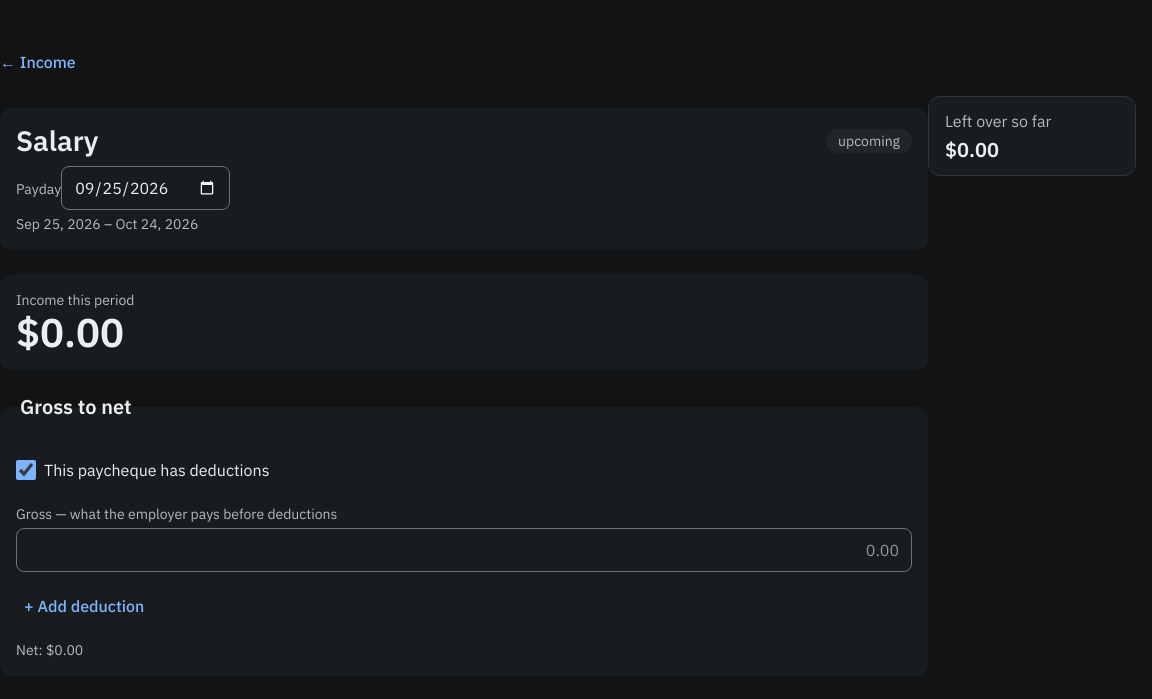
Scenario: PayRecord period from the backend › ignores a slow answer for a payday the user has moved off
The image size is (1152, 699).
Check: the text "Sep 25, 2026 – Oct 24, 2026" is shown, box [16, 215, 198, 233]
In the date field labelled "Payday": (146, 188) [61, 166, 230, 210], type "2026-10-25"
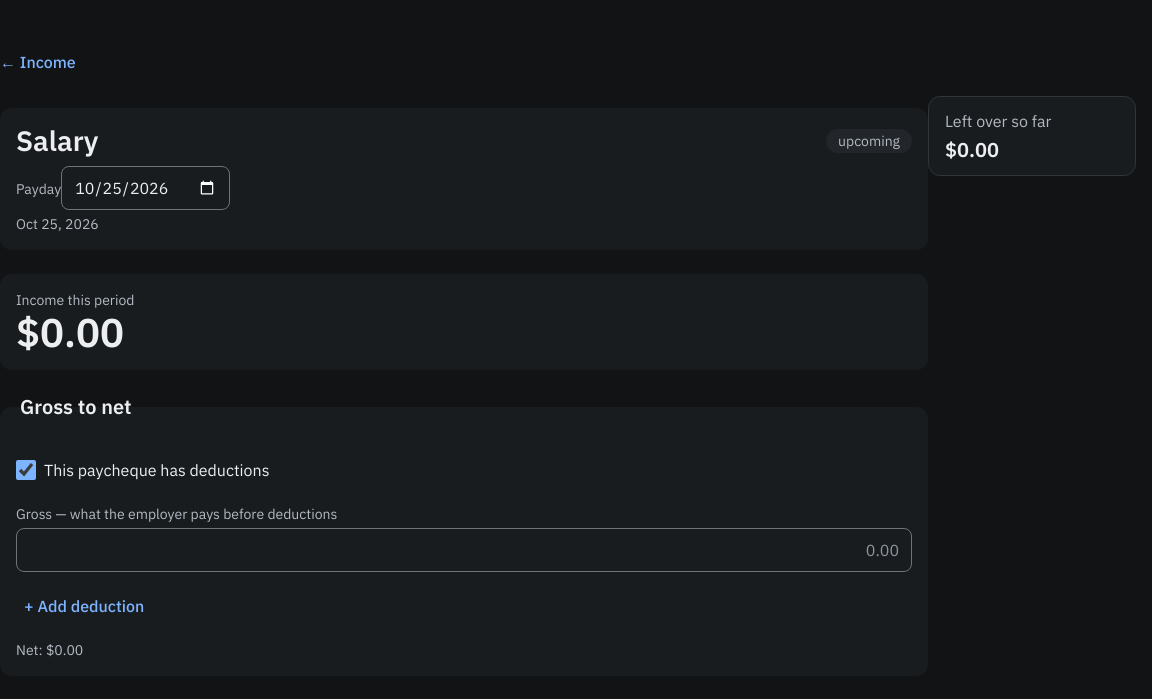
In the date field labelled "Payday": (146, 188) [61, 166, 230, 210], type "2026-11-25"
(page scrolled)
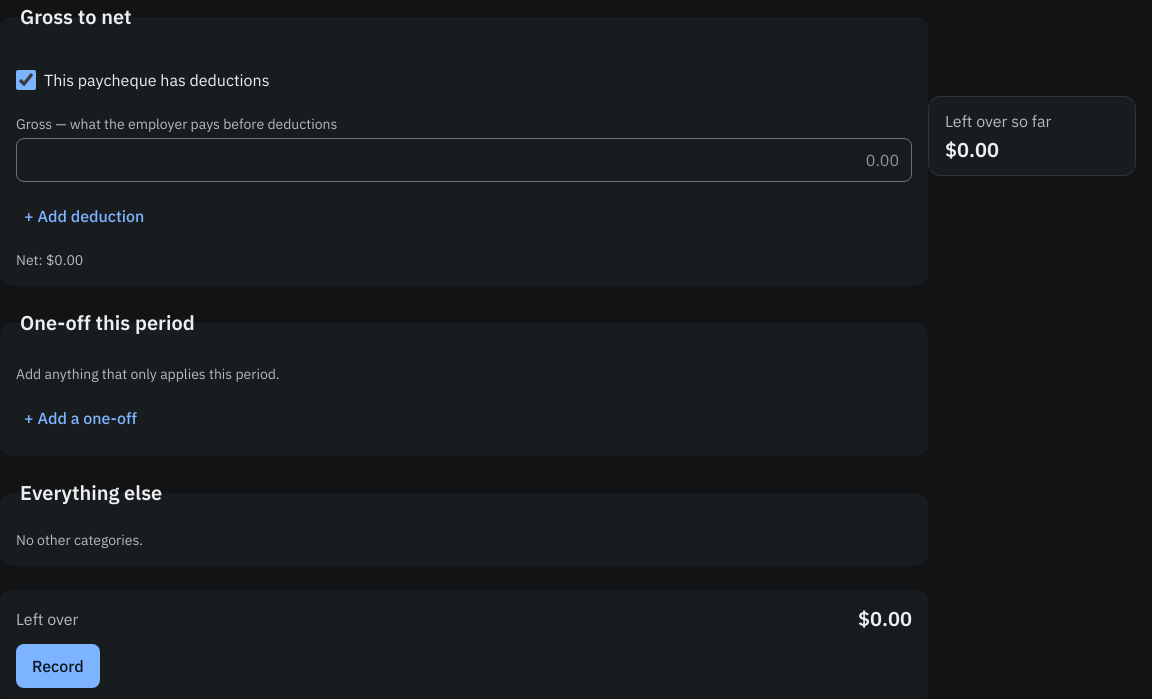
Check: the button "Record" is enabled, box [16, 644, 100, 688]
